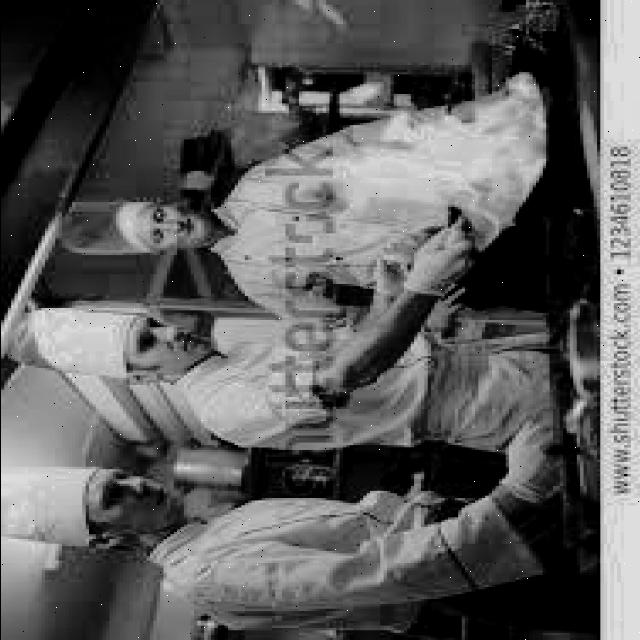api: (292, 52, 550, 268)
